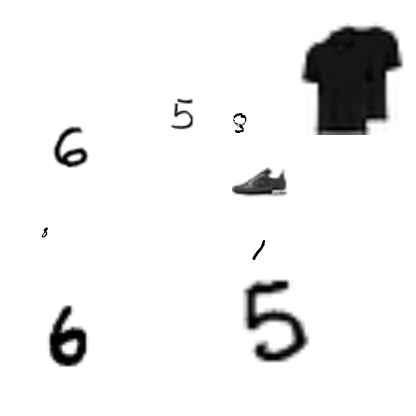1: (245, 236, 273, 264)
5: (216, 265, 328, 377), (161, 93, 203, 135)
6: (23, 297, 107, 381), (41, 121, 97, 177)
8: (226, 108, 254, 136), (38, 225, 52, 239)
Sneaker: (232, 154, 288, 210)
T-shirt/top: (294, 23, 406, 135)
